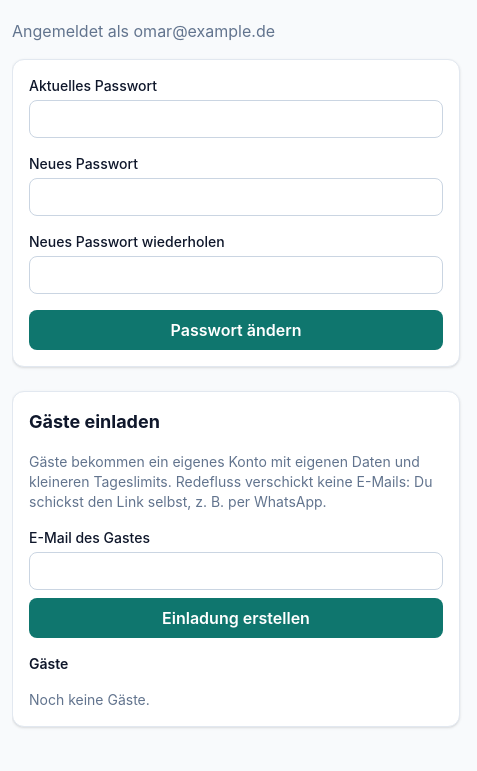
Scenario: Konto › as owner › creates an invitation link to send by hand
This screenshot has width=477, height=771.
Type "gast@example.de" into the field labelled "E-Mail des Gastes". click: (236, 571)
box: [29,552,443,590]
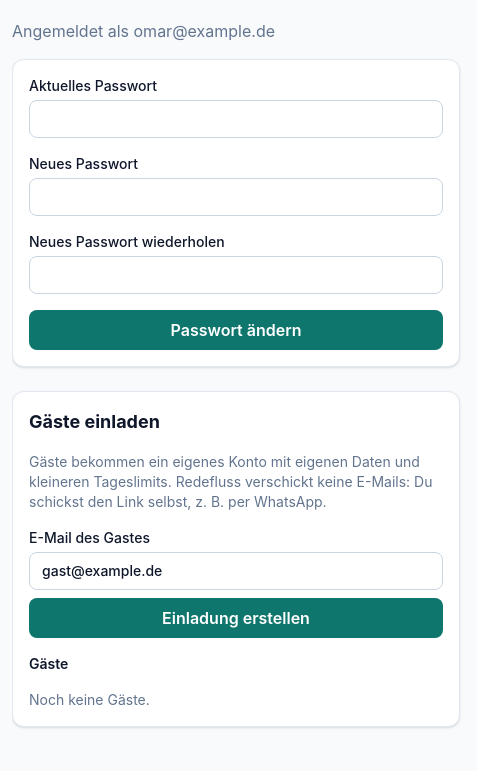
Click the button "Einladung erstellen". click: (236, 618)
box: [29,598,443,638]
(page scrolled)
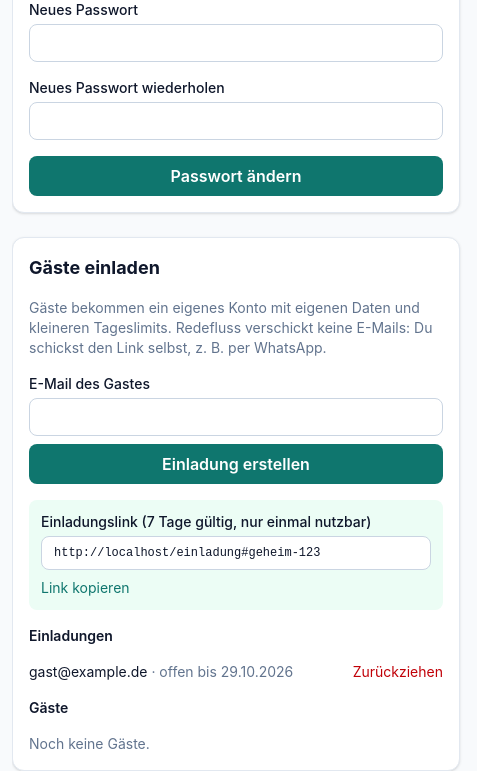
Expected: the text "· offen bis 29.10.2026" is shown, [151,663,293,680]
